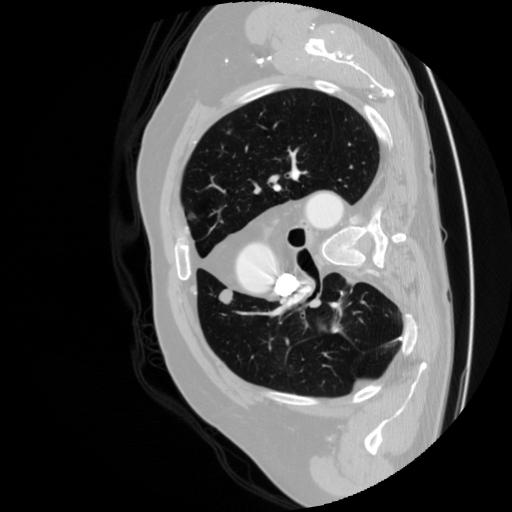nodule: (215, 286, 238, 309)
